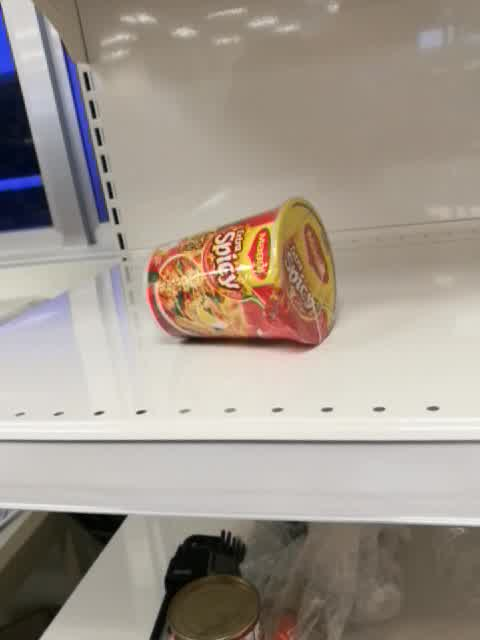maggi: (145, 195, 336, 349)
